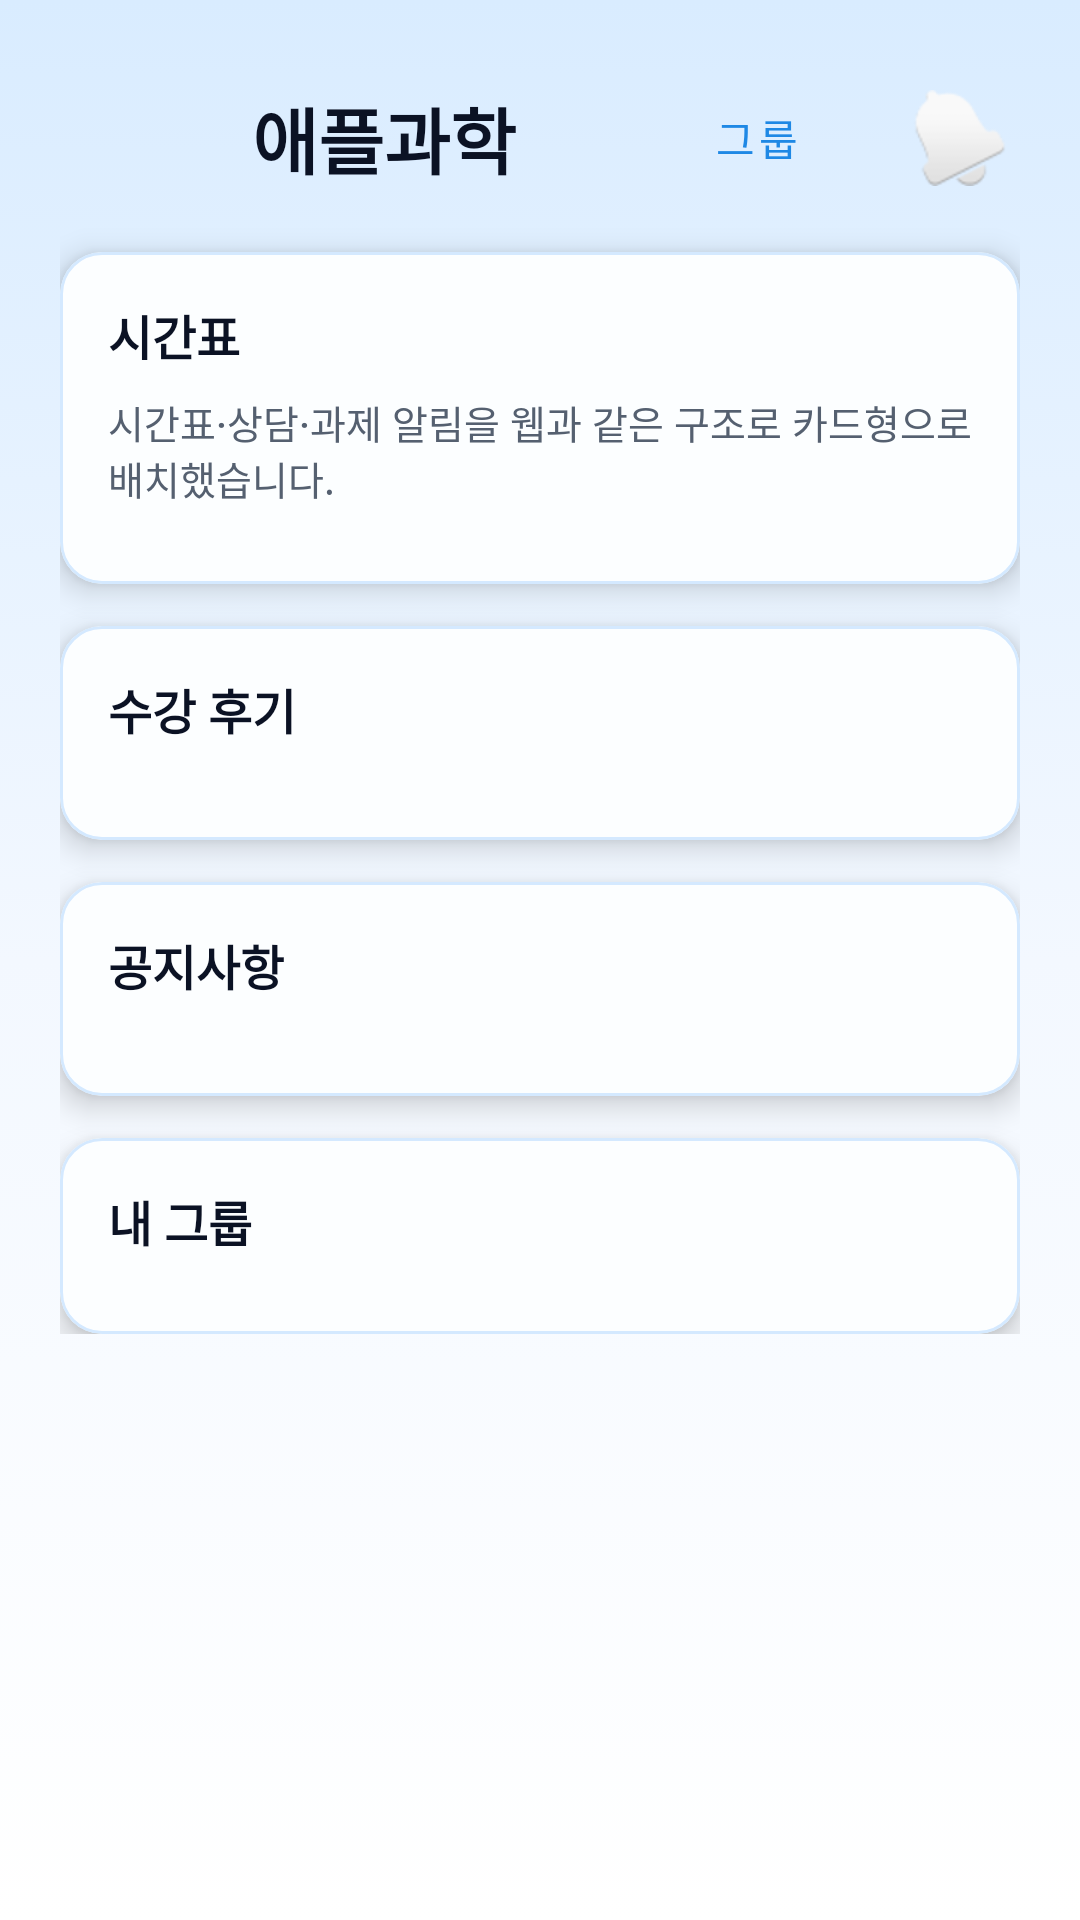

Point at icon controls on the screen. Image size 1080×1920, points as point (x, y).
알림: point (960, 139)
